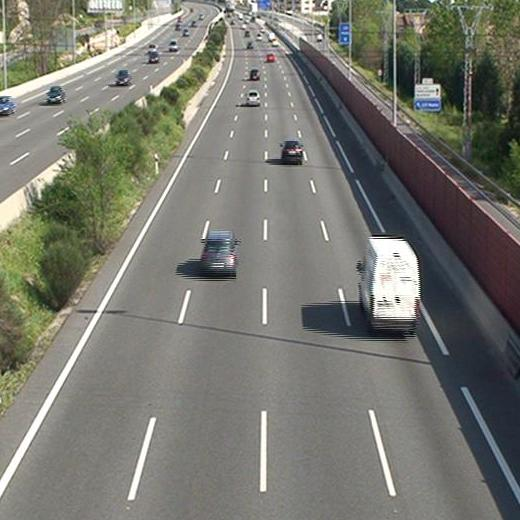car: (200, 231, 237, 273), (281, 140, 303, 161), (245, 90, 259, 105), (249, 68, 260, 79), (265, 53, 275, 63)
van: (358, 236, 419, 332)
